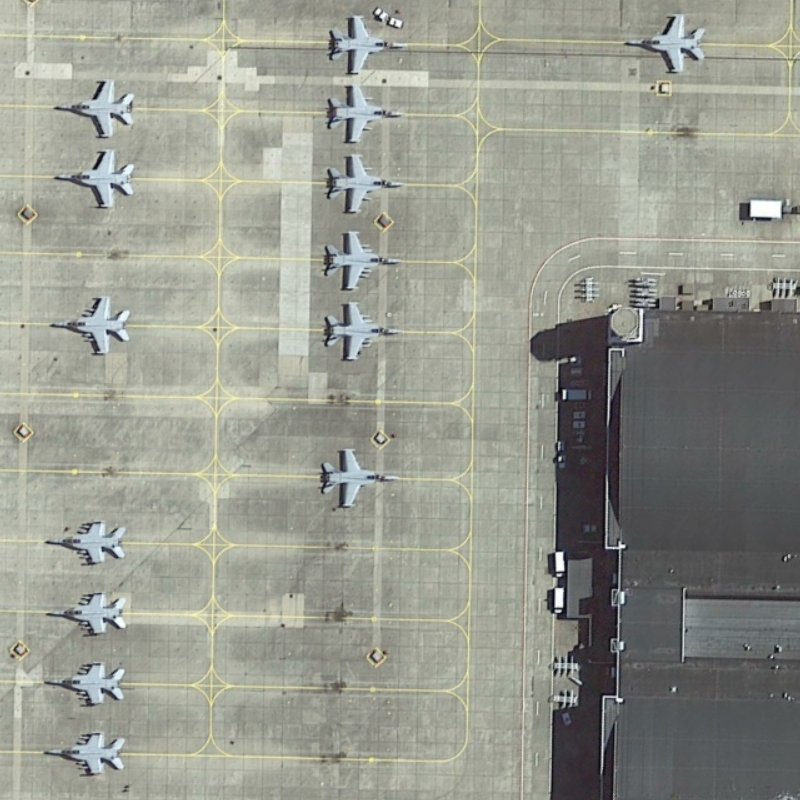A16: (44, 284, 139, 359), (618, 8, 714, 82), (322, 7, 410, 80), (314, 439, 402, 512), (51, 144, 142, 213), (50, 72, 141, 140), (317, 296, 405, 366), (321, 149, 405, 222), (319, 227, 404, 299), (321, 78, 404, 150), (42, 721, 132, 784), (42, 511, 129, 573), (41, 583, 129, 644), (43, 655, 133, 713)
